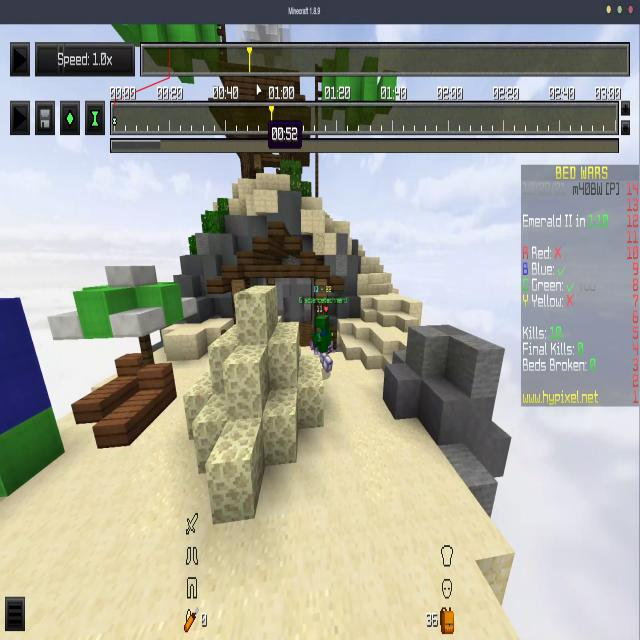Player: (309, 308, 335, 373)
